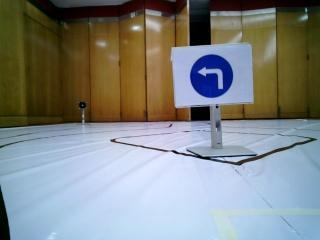left: (173, 49, 253, 103)
